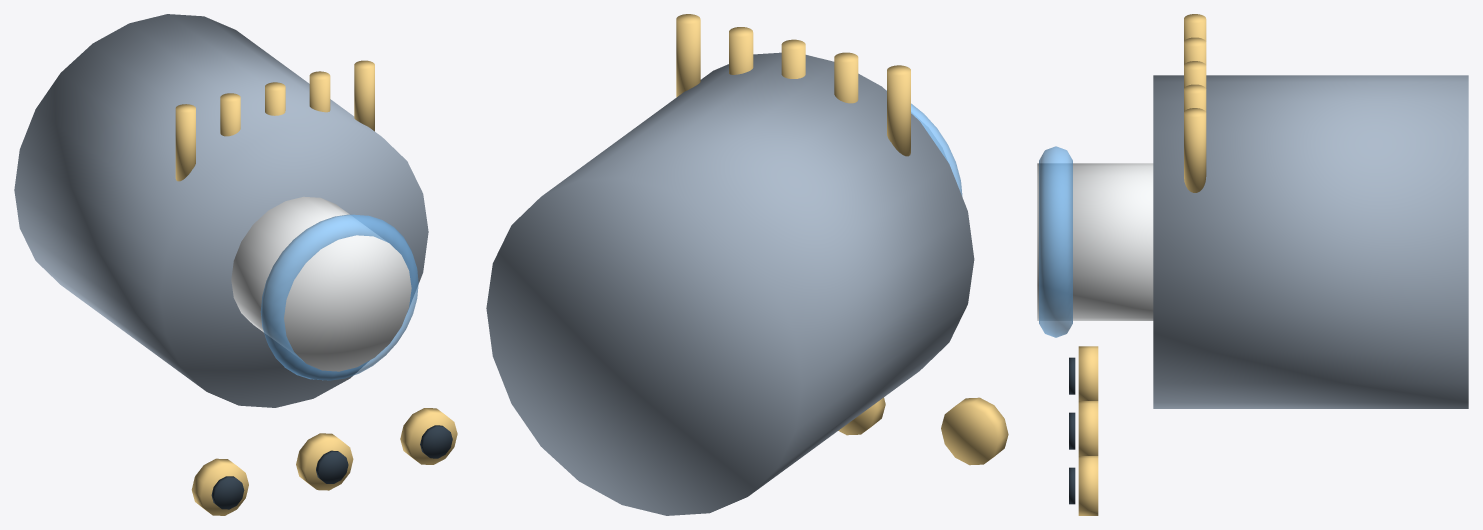
Rendered from 45_L90_HollowCathodeNeutralizerD.glb.
3 renders of one model, left to right at view 1: azimuth 30°, elevation 25°; view 2: azimuth 150°, elevation 25°; view 3: azimuth 270°, elevation 25°, orthographic. The views are drawn at different scales.
Parts seen in each view (by area): view 1: L90_HollowCathodeNeutralizerD, L90_HollowCathodeNeutralizerD_Part_0002, L90_HollowCathodeNeutralizerD_Part_0006, L90_HollowCathodeNeutralizerD_Part_0004, L90_HollowCathodeNeutralizerD_Part_0008, L90_HollowCathodeNeutralizerD_Part_0009, L90_HollowCathodeNeutralizerD_Part_0005, L90_HollowCathodeNeutralizerD_Part_0007; view 2: L90_HollowCathodeNeutralizerD, L90_HollowCathodeNeutralizerD_Part_0004, L90_HollowCathodeNeutralizerD_Part_0002, L90_HollowCathodeNeutralizerD_Part_0006; view 3: L90_HollowCathodeNeutralizerD, L90_HollowCathodeNeutralizerD_Part_0002, L90_HollowCathodeNeutralizerD_Part_0008, L90_HollowCathodeNeutralizerD_Part_0004, L90_HollowCathodeNeutralizerD_Part_0006.
Part boxes in pixels (x1,y1,x2,y2): L90_HollowCathodeNeutralizerD: (14, 14, 428, 407); L90_HollowCathodeNeutralizerD_Part_0002: (260, 214, 418, 380); L90_HollowCathodeNeutralizerD_Part_0006: (296, 433, 353, 490); L90_HollowCathodeNeutralizerD_Part_0004: (191, 458, 248, 515); L90_HollowCathodeNeutralizerD_Part_0008: (400, 408, 457, 464); L90_HollowCathodeNeutralizerD_Part_0009: (420, 425, 452, 458); L90_HollowCathodeNeutralizerD_Part_0005: (211, 476, 244, 509); L90_HollowCathodeNeutralizerD_Part_0007: (316, 450, 348, 483); L90_HollowCathodeNeutralizerD: (486, 14, 974, 515); L90_HollowCathodeNeutralizerD_Part_0004: (941, 397, 1008, 465); L90_HollowCathodeNeutralizerD_Part_0002: (886, 90, 962, 196); L90_HollowCathodeNeutralizerD_Part_0006: (838, 397, 885, 435); L90_HollowCathodeNeutralizerD: (1037, 14, 1468, 408); L90_HollowCathodeNeutralizerD_Part_0002: (1039, 146, 1072, 337); L90_HollowCathodeNeutralizerD_Part_0008: (1078, 456, 1098, 515); L90_HollowCathodeNeutralizerD_Part_0004: (1078, 346, 1098, 400); L90_HollowCathodeNeutralizerD_Part_0006: (1078, 401, 1098, 455).
Bounding box in the file's own units: 0.72 × 0.935 × 0.93.
